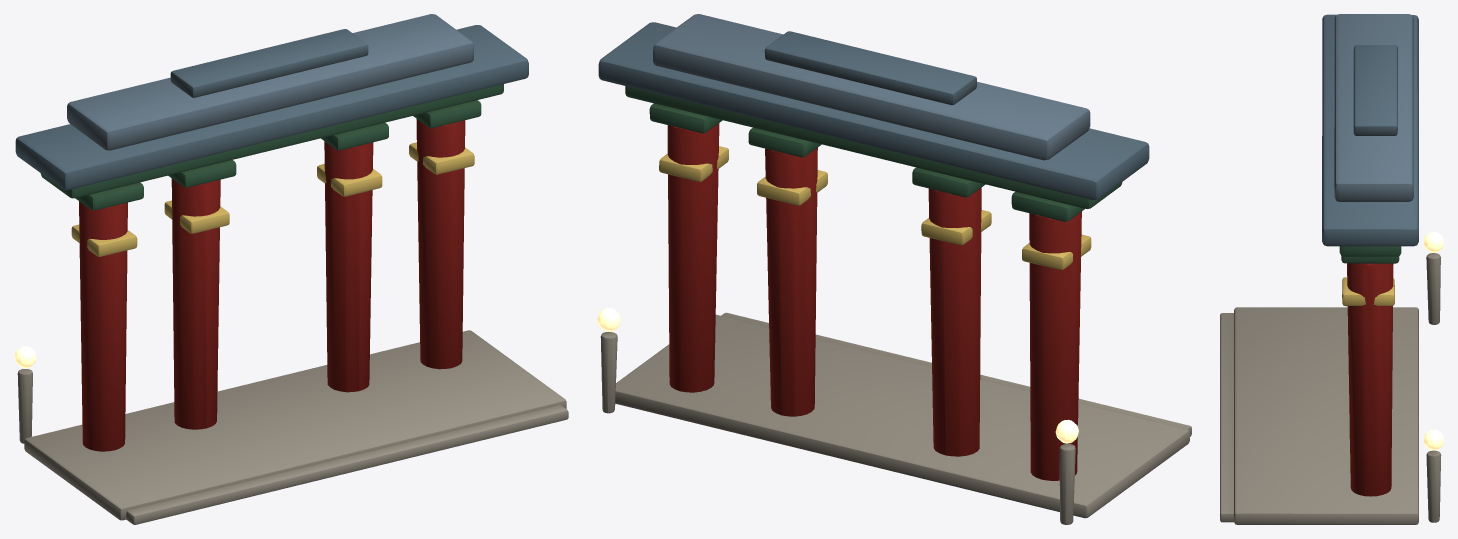
The picture shows the model from 3 angles, left to right: view 1: azimuth 30°, elevation 25°; view 2: azimuth 150°, elevation 25°; view 3: azimuth 270°, elevation 25°; orthographic projection. The views are drawn at different scales.
Parts seen in each view (by area): view 1: gate_f0f0378d; view 2: gate_f0f0378d; view 3: gate_f0f0378d.
Part boxes in pixels (x1,y1,x2,y2): gate_f0f0378d: (14, 14, 568, 524); gate_f0f0378d: (597, 14, 1191, 524); gate_f0f0378d: (1220, 14, 1443, 524).
Bounding box in the file's own units: 5.8 × 4.25 × 2.54.
